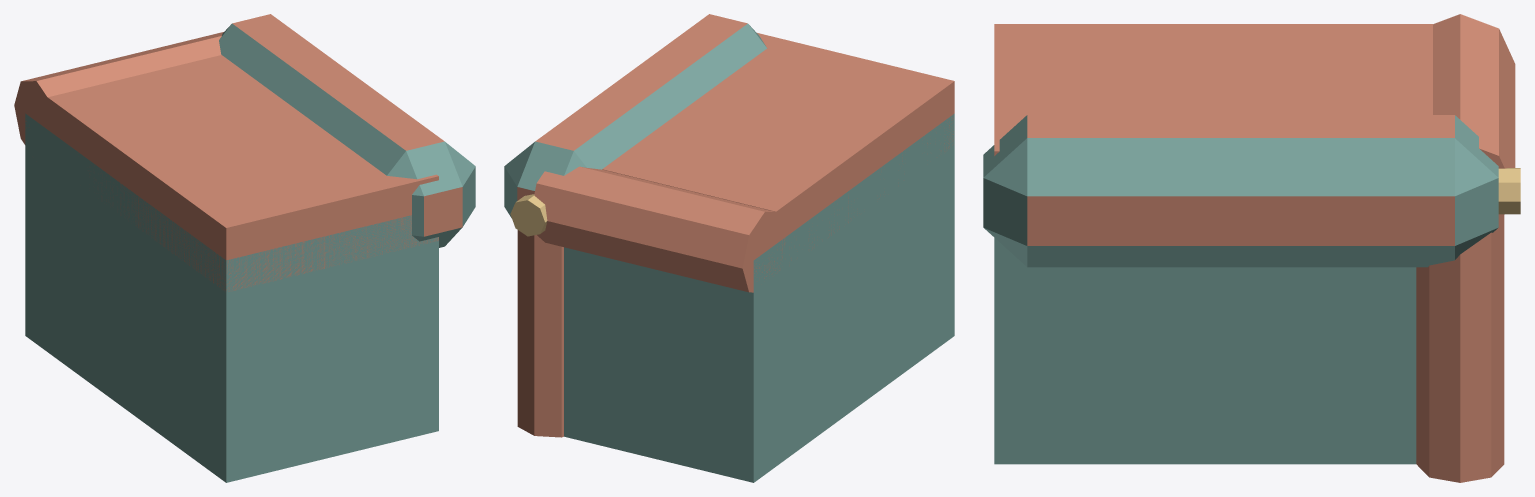
Rendered from TH_Tile_2.fbx.
3 views of the same model, side by side, from view 1: azimuth 30°, elevation 25°; view 2: azimuth 150°, elevation 25°; view 3: azimuth 270°, elevation 25° (orthographic). The views are drawn at different scales.
Visible parts, largest first — view 1: TH_Tile_2; view 2: TH_Tile_2; view 3: TH_Tile_2.
Boxes of the visible parts, <box> form: TH_Tile_2: <box>14,14,475,482</box>; TH_Tile_2: <box>504,14,954,482</box>; TH_Tile_2: <box>983,14,1520,482</box>.
Bounding box in the file's own units: 0.68 × 0.68 × 0.98.
